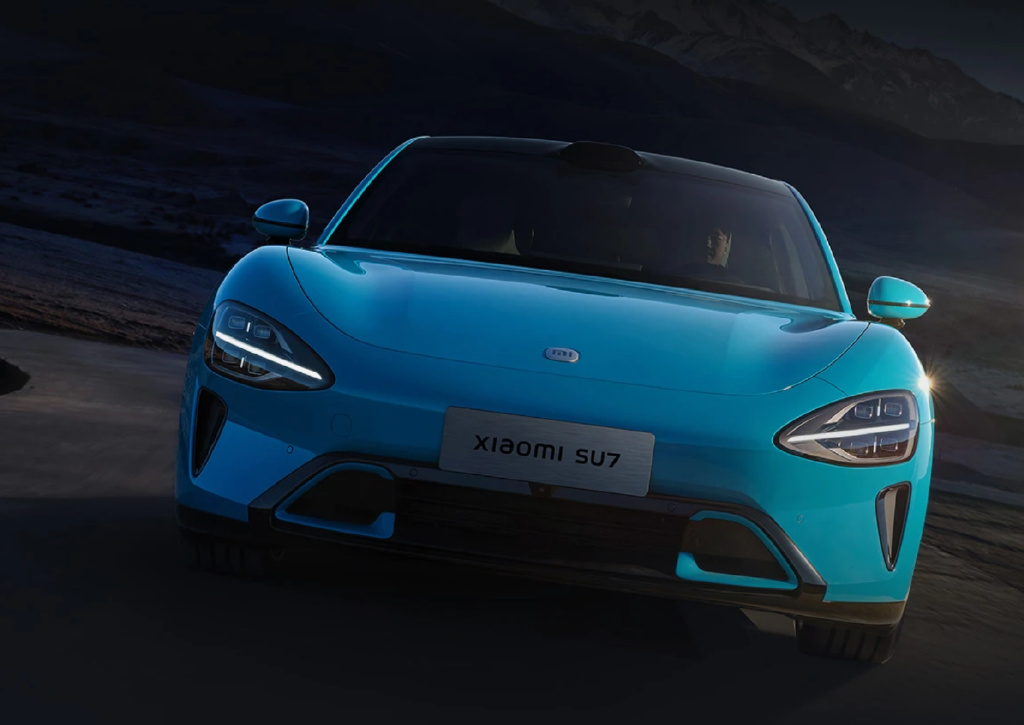su7: (181, 111, 913, 681)
